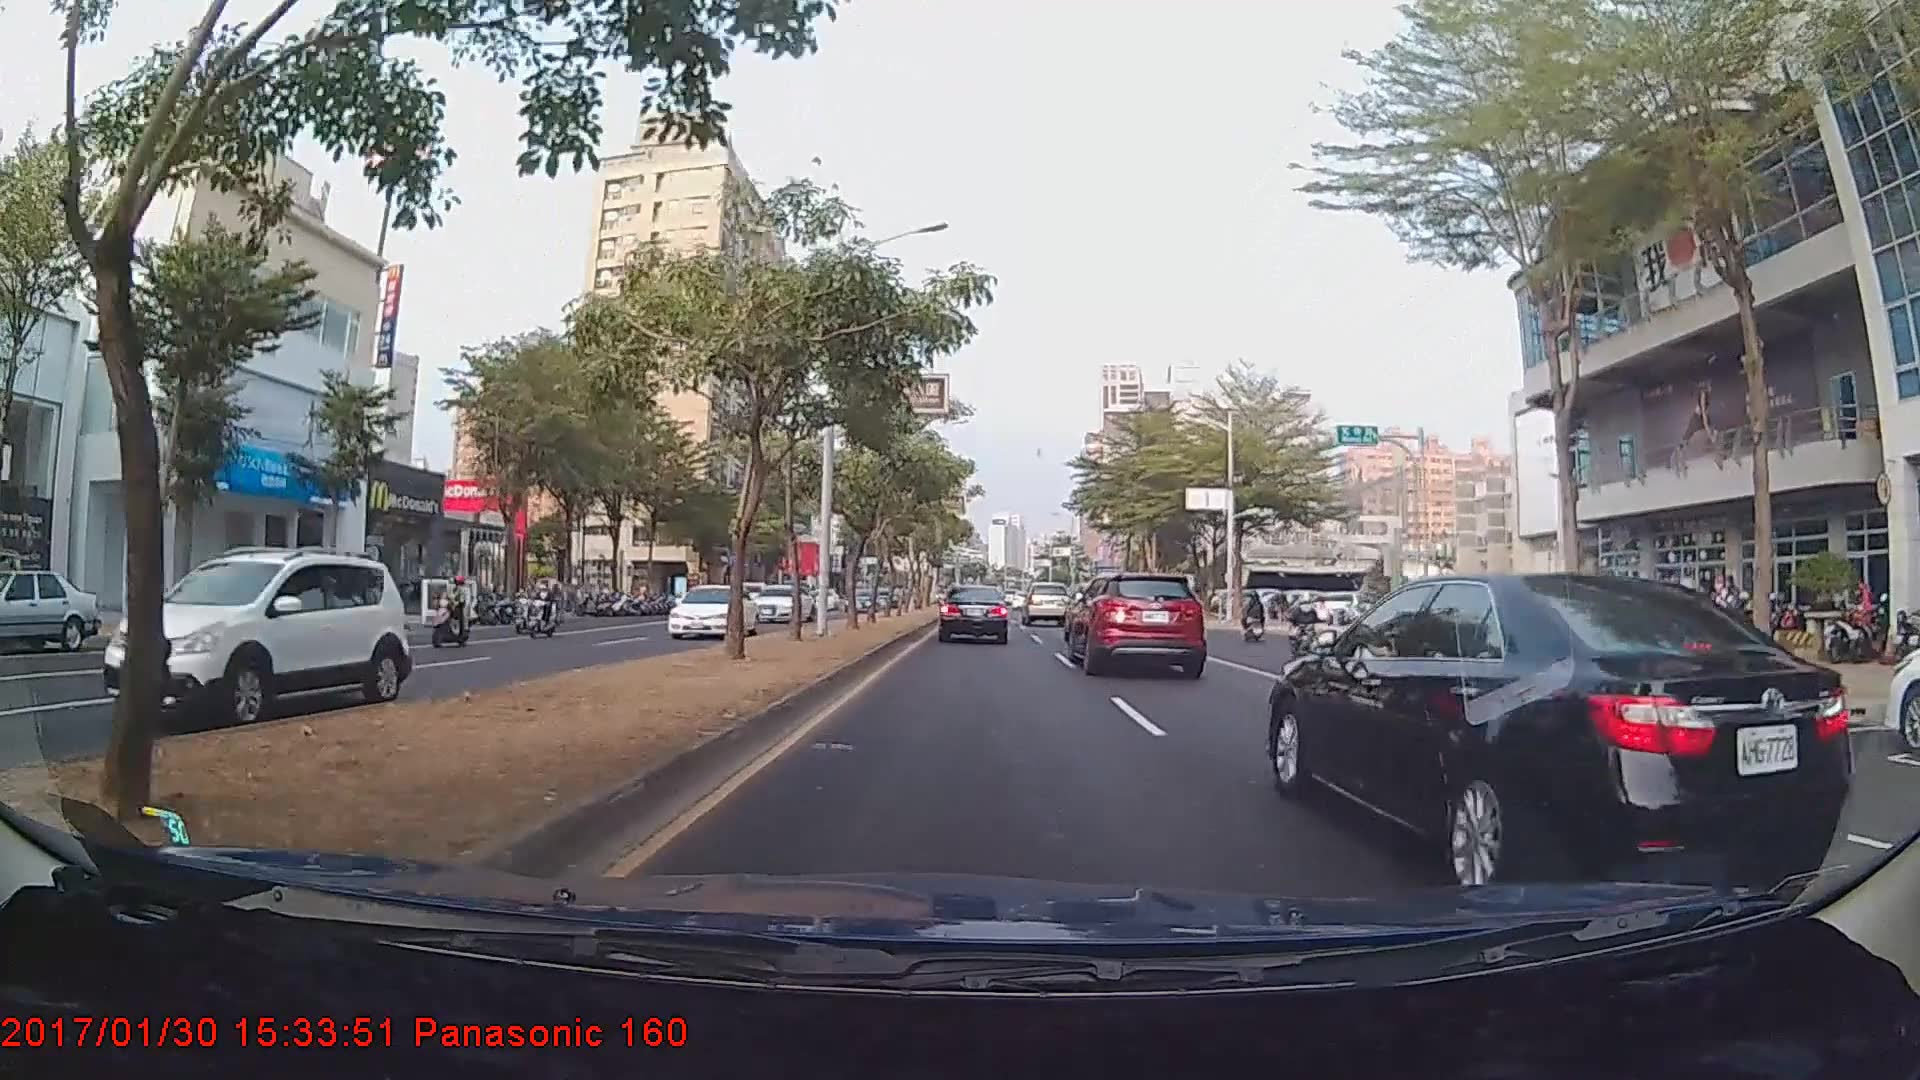rider: (418, 570, 478, 650)
vehicle: (1257, 560, 1825, 888), (100, 547, 412, 725), (1068, 570, 1205, 675), (0, 569, 101, 655), (664, 580, 759, 637), (938, 584, 1009, 643), (746, 579, 815, 624), (1022, 580, 1071, 626)
